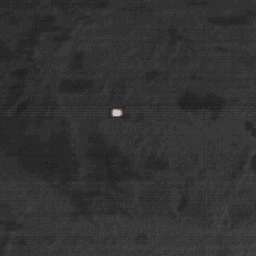Target: (109, 107, 122, 118)
